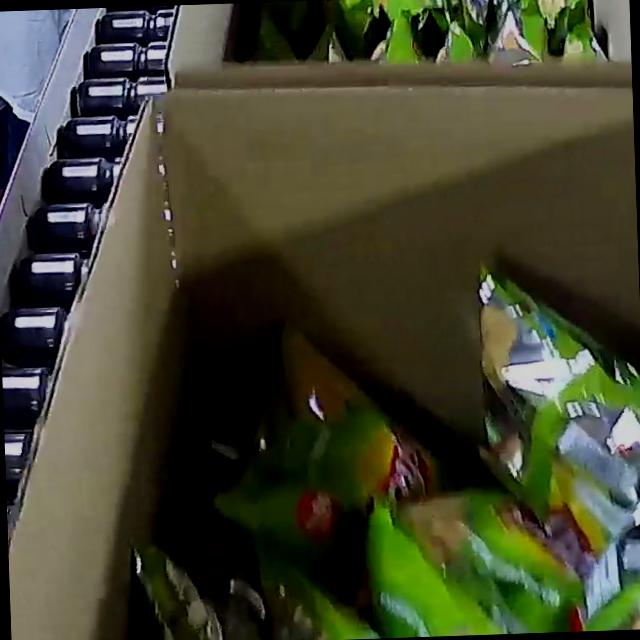yogurt: (110, 257, 640, 640), (234, 0, 631, 87)
